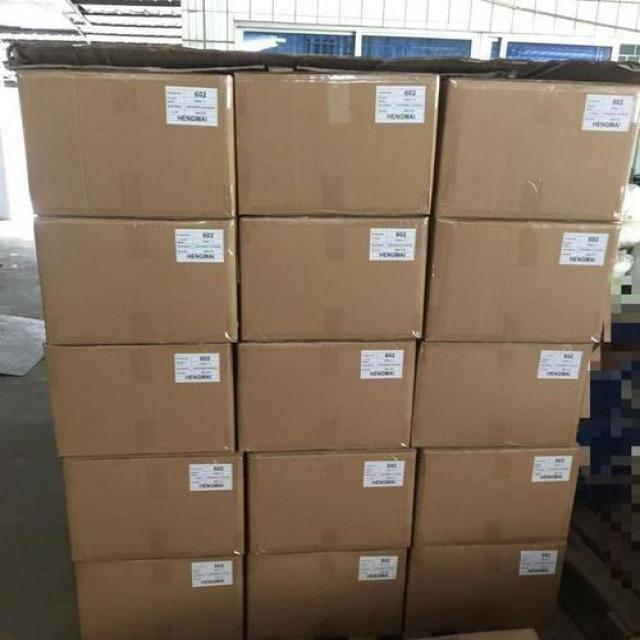box: (15, 55, 239, 225), (438, 57, 640, 226), (224, 63, 436, 223), (27, 209, 238, 339), (231, 210, 427, 346), (426, 213, 612, 347), (45, 335, 242, 461), (232, 333, 414, 464), (410, 331, 594, 457), (242, 444, 412, 558), (54, 455, 250, 553), (66, 538, 247, 640), (410, 446, 580, 549), (402, 535, 566, 640), (242, 543, 406, 640)
